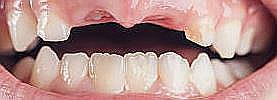Hypodontia: (138, 13, 192, 47), (67, 11, 111, 32)
